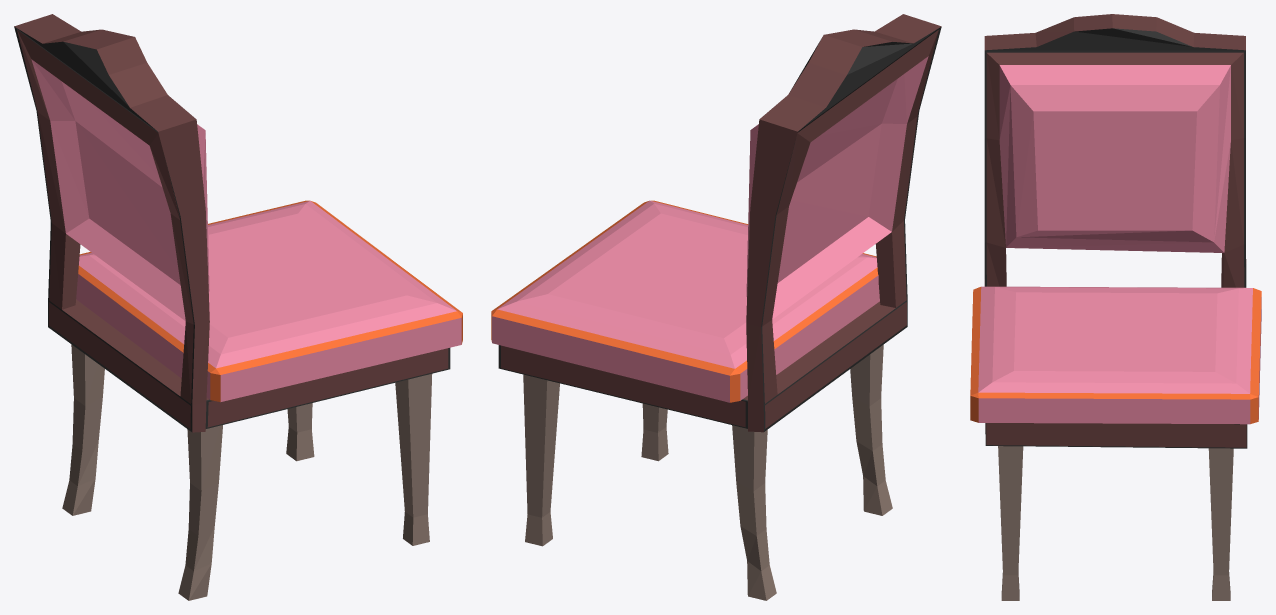
Rendered from Chair_Dining.fbx.
3 renders of one model, left to right at view 1: azimuth 30°, elevation 25°; view 2: azimuth 150°, elevation 25°; view 3: azimuth 270°, elevation 25°, orthographic. The views are drawn at different scales.
Parts seen in each view (by area): view 1: Dining_Room_Chair1; view 2: Dining_Room_Chair1; view 3: Dining_Room_Chair1.
Boxes of the visible parts, bbox=[...] form: Dining_Room_Chair1: bbox=[14, 14, 462, 600]; Dining_Room_Chair1: bbox=[491, 14, 941, 600]; Dining_Room_Chair1: bbox=[970, 14, 1261, 600].
Bounding box in the file's own units: 78.14 × 127 × 71.39.
